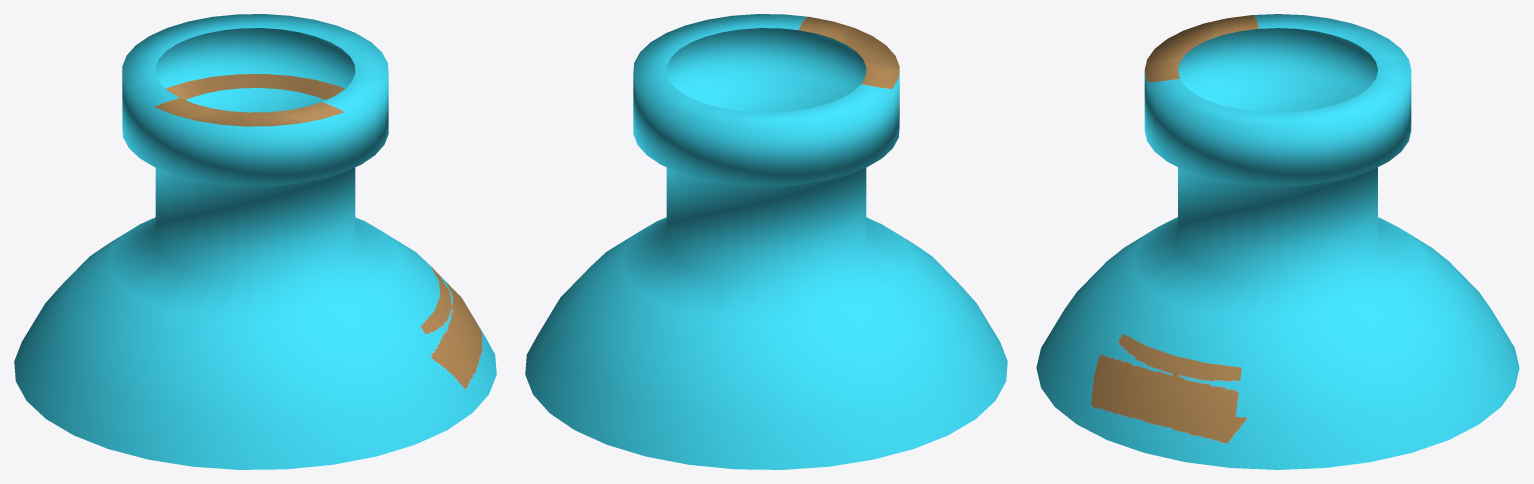
The model's file is potion_top.dae.
3 renders of one model, left to right at view 1: azimuth 30°, elevation 25°; view 2: azimuth 150°, elevation 25°; view 3: azimuth 270°, elevation 25°, orthographic.
Visible parts, largest first — view 1: Sphere.001; view 2: Sphere.001; view 3: Sphere.001.
Part boxes in pixels (x1=…): Sphere.001: x1=14, y1=14, x2=496, y2=469; Sphere.001: x1=525, y1=14, x2=1007, y2=469; Sphere.001: x1=1036, y1=14, x2=1519, y2=469.
Bounding box in the file's own units: 0.6495 × 0.6495 × 0.4412.
Materials: 1 (1 with a texture image).
